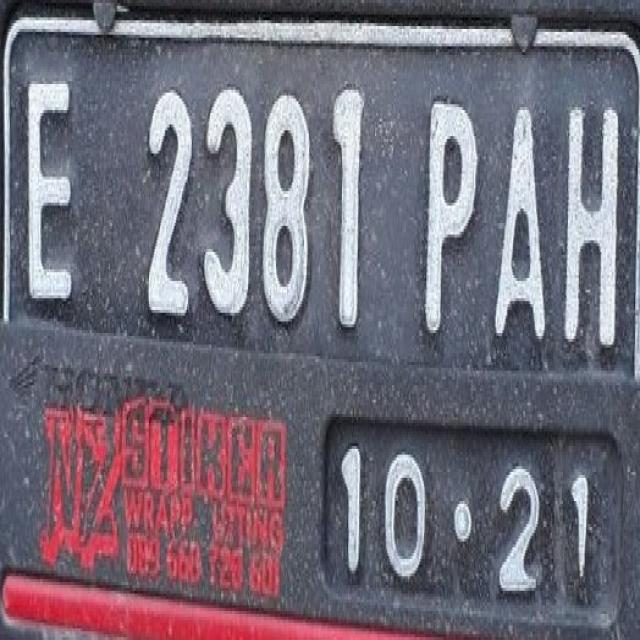plate: (2, 11, 636, 628)
